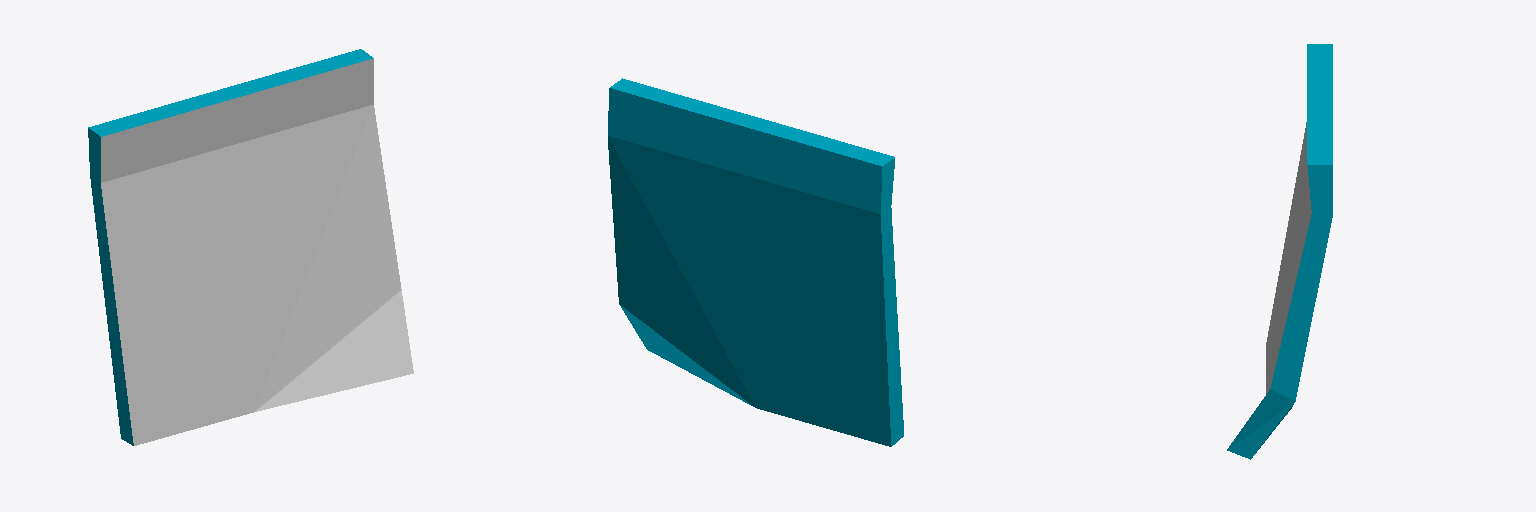
File: post-it_taches.04.obj
3 renders of one model, left to right at view 1: azimuth 30°, elevation 25°; view 2: azimuth 150°, elevation 25°; view 3: azimuth 270°, elevation 25°, orthographic.
Visible parts, largest first — view 1: post-it_taches.04; view 2: post-it_taches.04; view 3: post-it_taches.04.
Boxes of the visible parts, x1,y1,x2,y2 form: post-it_taches.04: [88, 49, 413, 445]; post-it_taches.04: [608, 78, 903, 446]; post-it_taches.04: [1227, 44, 1332, 459].
Size of the model in its own units: 0.1483 by 0.156 by 0.0485.